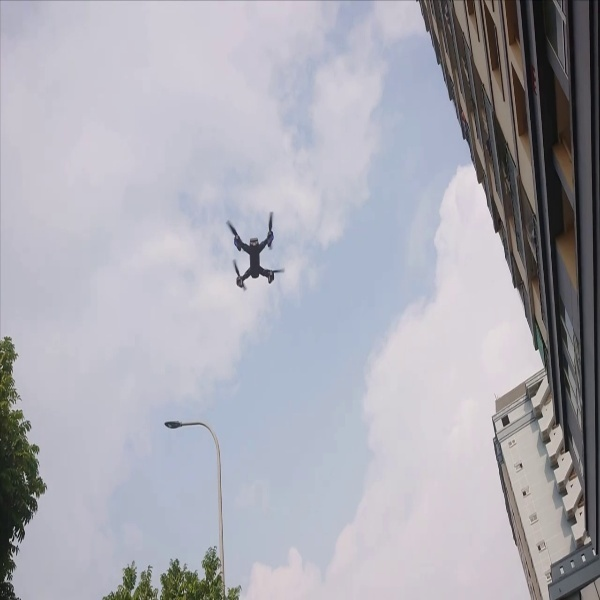drone: (213, 213, 299, 294)
